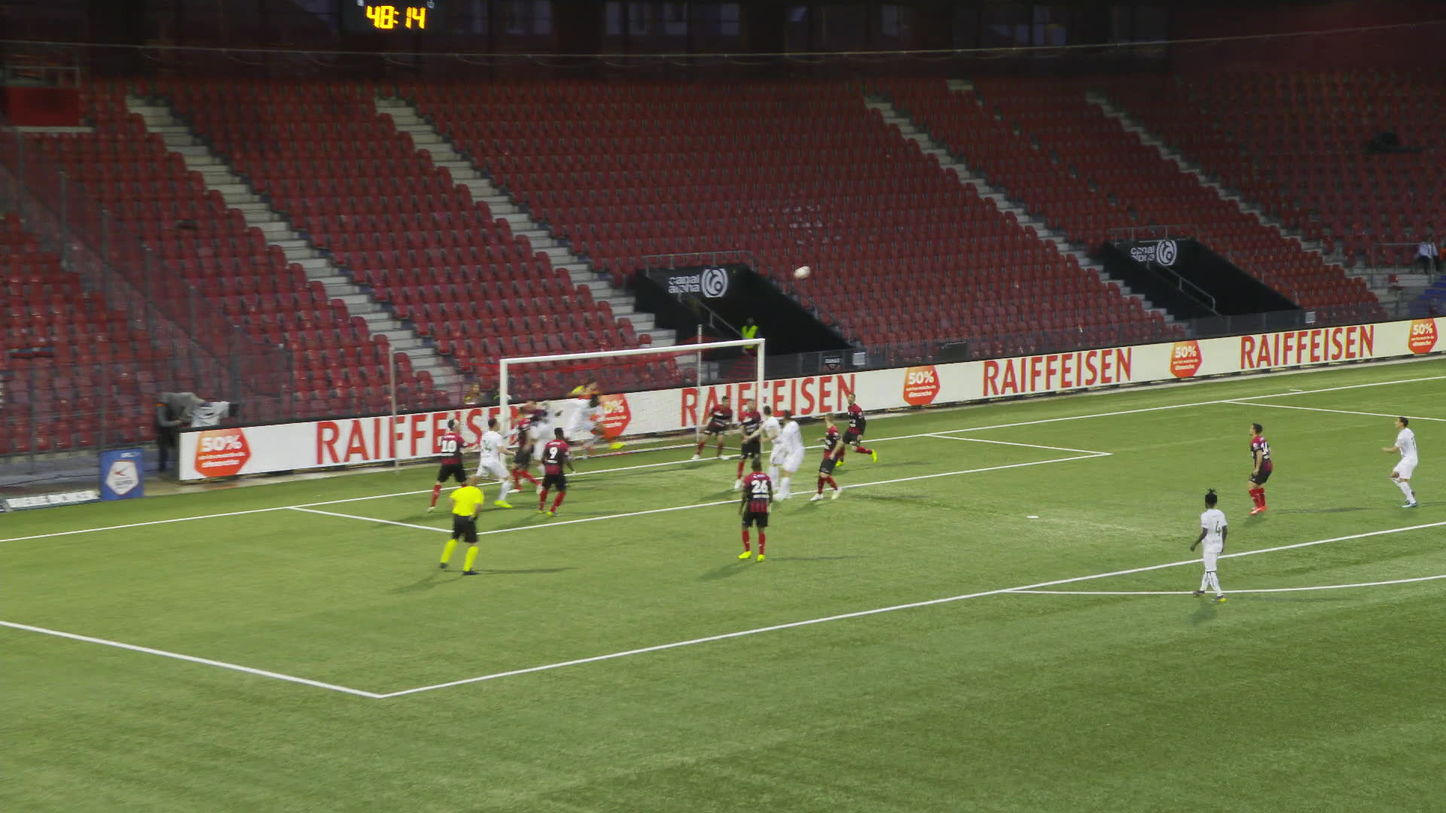ball: (793, 266, 810, 279)
player: (468, 413, 521, 504), (517, 391, 571, 479), (427, 418, 477, 510), (571, 369, 621, 452), (1184, 486, 1219, 598), (734, 458, 770, 560), (743, 405, 786, 489), (534, 425, 574, 515), (770, 404, 804, 497), (1379, 416, 1414, 506), (561, 394, 611, 451), (808, 411, 840, 500), (506, 397, 538, 486), (523, 402, 560, 477), (834, 388, 869, 466), (693, 391, 733, 458), (734, 397, 761, 482), (1240, 423, 1264, 514)
referee: (441, 473, 484, 573)
